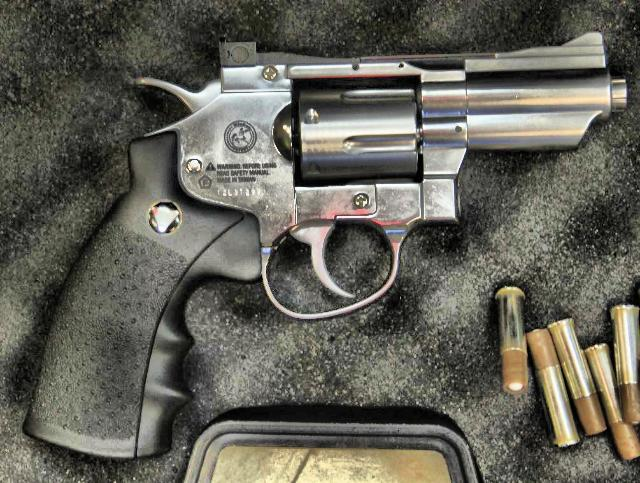pistol: (16, 32, 624, 458)
